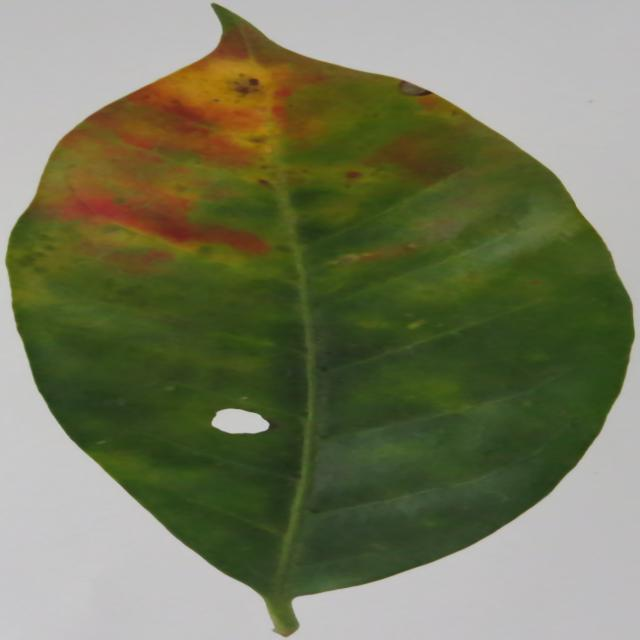DeficienciaNutricional-Fosforo: (8, 6, 631, 636)
